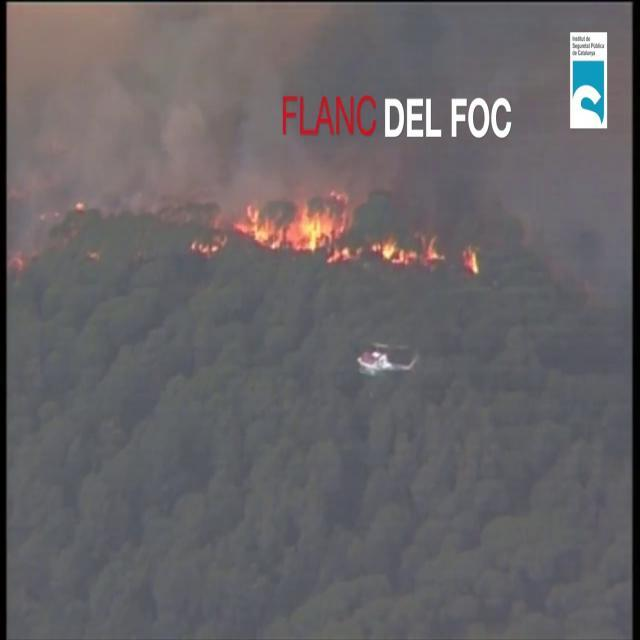Fire: (234, 190, 346, 259), (371, 226, 447, 269)
Smoke: (14, 2, 610, 229)
